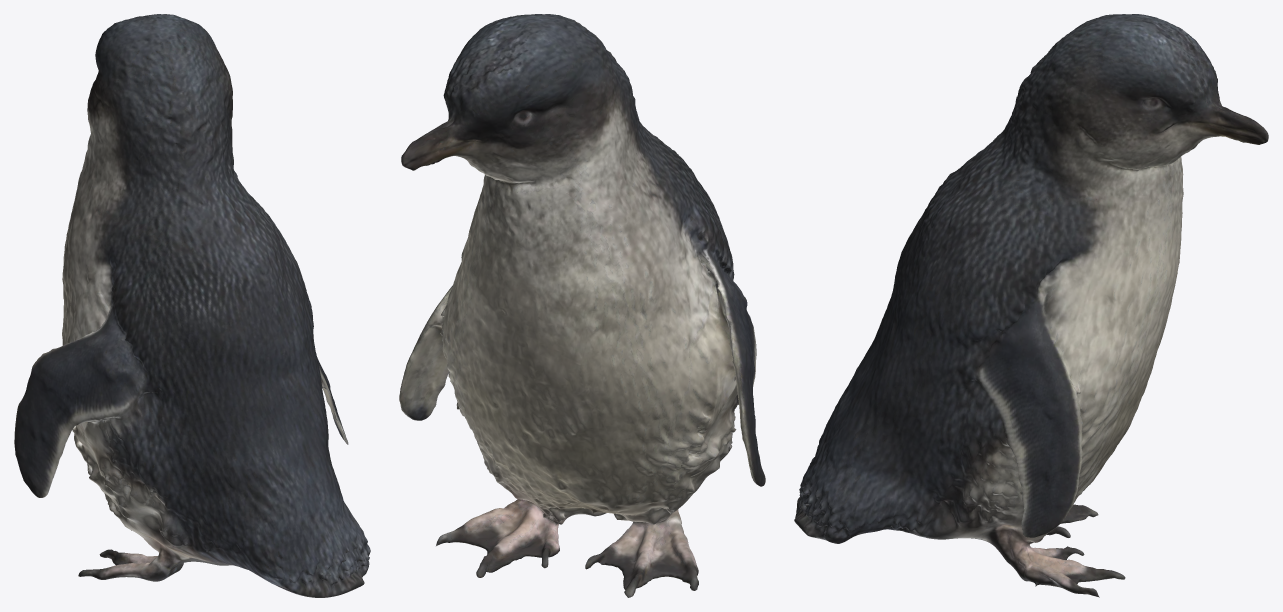
File: sf-little-blue-penguin-korora-8a5802.glb
3 views of the same model, side by side, from view 1: azimuth 30°, elevation 25°; view 2: azimuth 150°, elevation 25°; view 3: azimuth 270°, elevation 25° (orthographic). The views are drawn at different scales.
Parts seen in each view (by area): view 1: Object_2; view 2: Object_2; view 3: Object_2.
Part boxes in pixels (left/top/right/bottom): Object_2: left=14, top=14, right=370, bottom=597; Object_2: left=399, top=14, right=765, bottom=597; Object_2: left=794, top=14, right=1268, bottom=597.
Size of the model in its own units: 158 by 242 by 195.
1 material, 1 textured.
